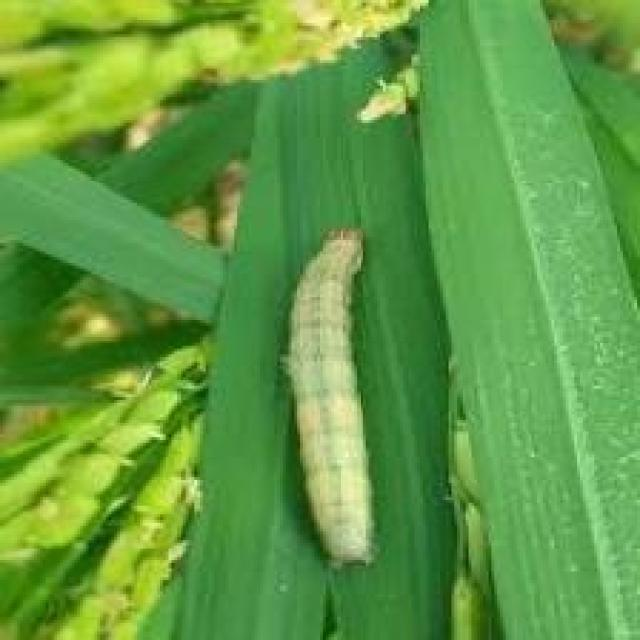Plaga: (264, 200, 441, 577)
